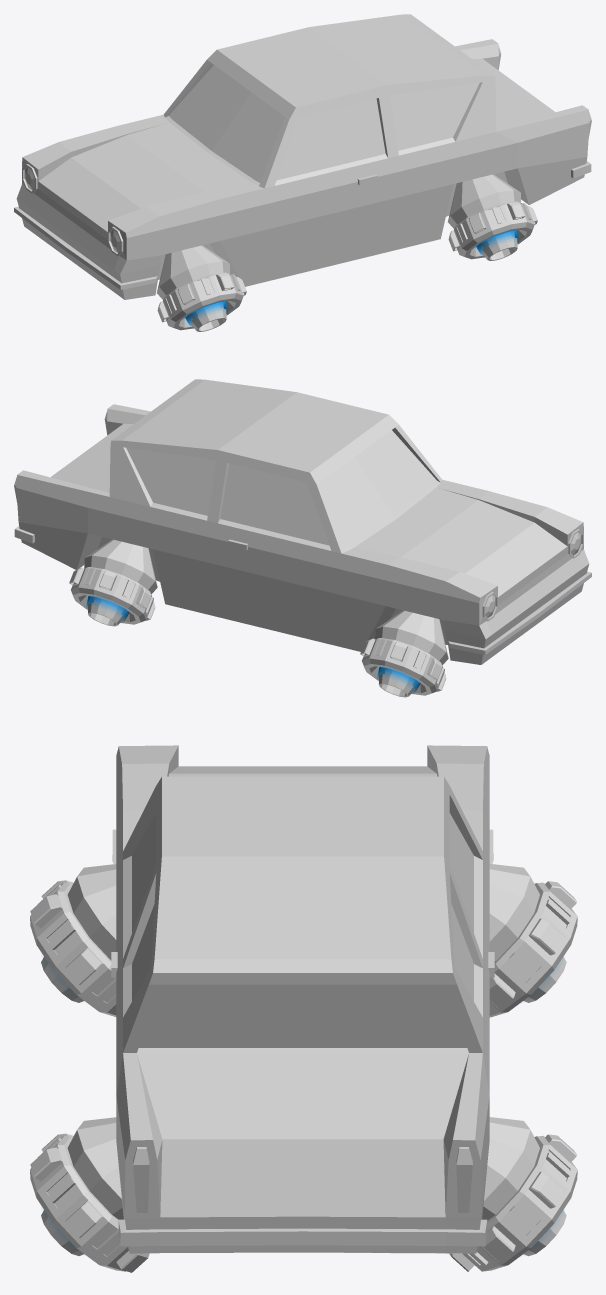
Rendered from flame_effect.glb.
3 renders of one model, top to bottom at view 1: azimuth 30°, elevation 25°; view 2: azimuth 150°, elevation 25°; view 3: azimuth 270°, elevation 25°, orthographic. The views are drawn at different scales.
Visible parts, largest first — view 1: Car.002, Engine.002, Engine.004; view 2: Car.002, Engine.003, Engine.001; view 3: Car.002, Engine.001, Engine.002, Engine.003, Engine.004, LightBack.002.
Boxes of the visible parts, bbox=[...] form: Car.002: bbox=[14, 14, 591, 299]; Engine.002: bbox=[448, 174, 537, 260]; Engine.004: bbox=[157, 245, 246, 331]; Car.002: bbox=[14, 379, 591, 664]; Engine.003: bbox=[360, 610, 448, 697]; Engine.001: bbox=[69, 539, 157, 626]; Car.002: bbox=[111, 745, 494, 1253]; Engine.001: bbox=[449, 1117, 577, 1271]; Engine.002: bbox=[30, 1117, 149, 1272]; Engine.003: bbox=[489, 864, 577, 1017]; Engine.004: bbox=[30, 864, 116, 1016]; LightBack.002: bbox=[133, 1147, 472, 1212].
Bounding box in the file's own units: 2.29 × 0.8862 × 1.34.
1 material, 1 textured.
